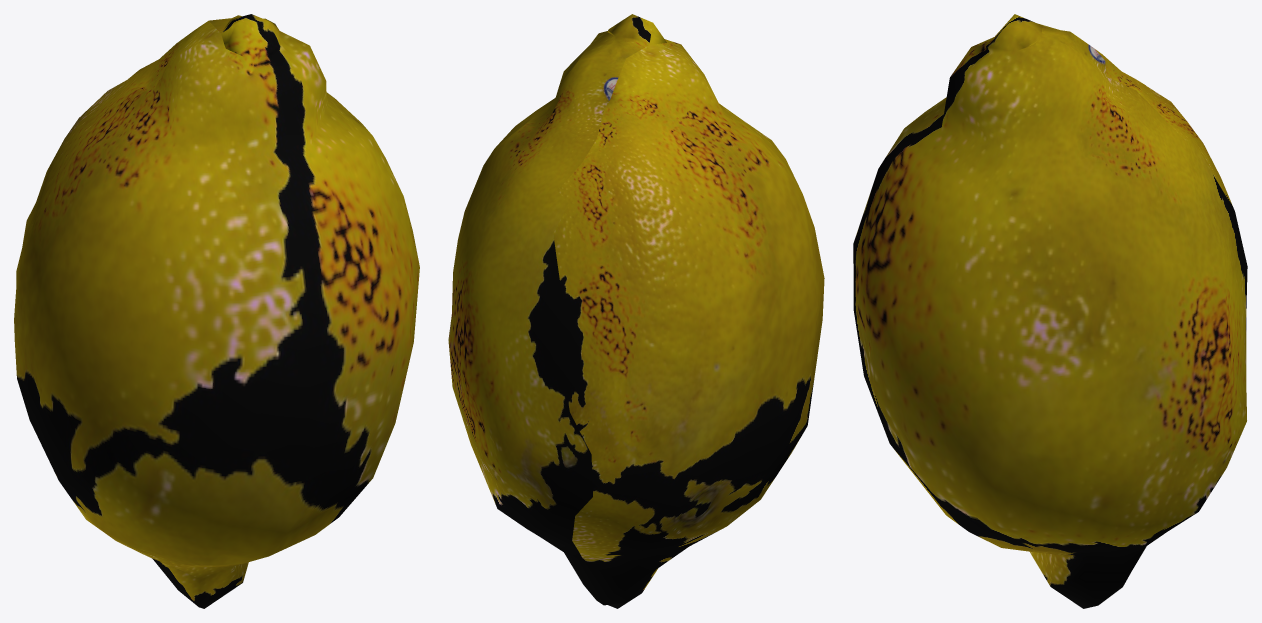
The picture shows the model from 3 angles, left to right: view 1: azimuth 30°, elevation 25°; view 2: azimuth 150°, elevation 25°; view 3: azimuth 270°, elevation 25°; orthographic projection. The views are drawn at different scales.
Size of the model in its own units: 0.5911 by 1 by 0.5986.
